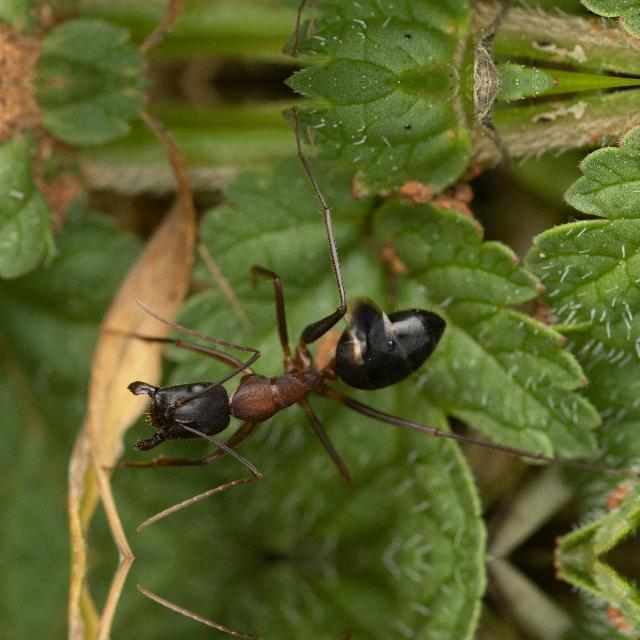Camponotus: (93, 282, 469, 476)
